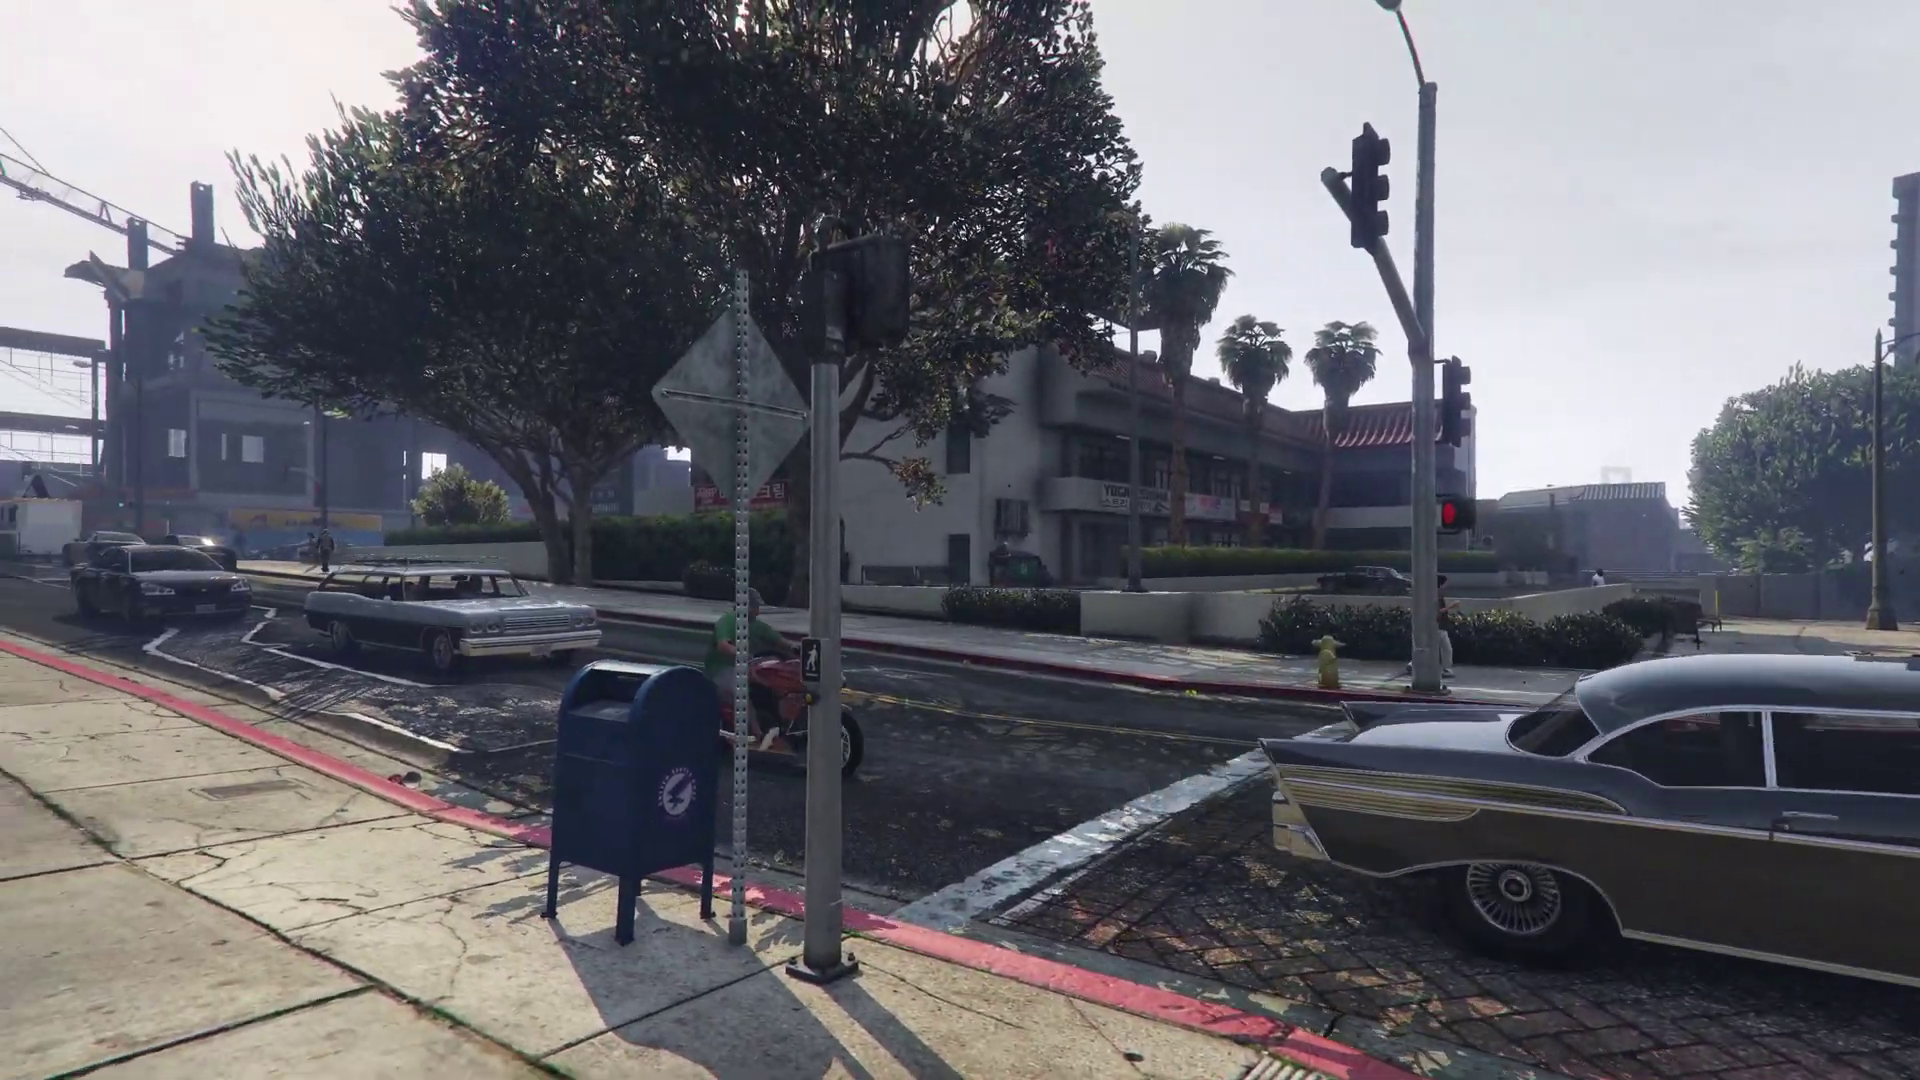car: (1263, 651, 1920, 1010), (301, 565, 604, 671), (73, 542, 249, 632), (1316, 566, 1414, 599), (163, 535, 237, 568), (83, 531, 147, 553), (250, 543, 304, 560)
person: (707, 583, 803, 749), (1405, 573, 1459, 676), (318, 528, 336, 573), (1590, 568, 1606, 588)
traffic light: (812, 226, 901, 353), (1347, 125, 1391, 255), (1442, 356, 1474, 446), (1435, 499, 1474, 534)
